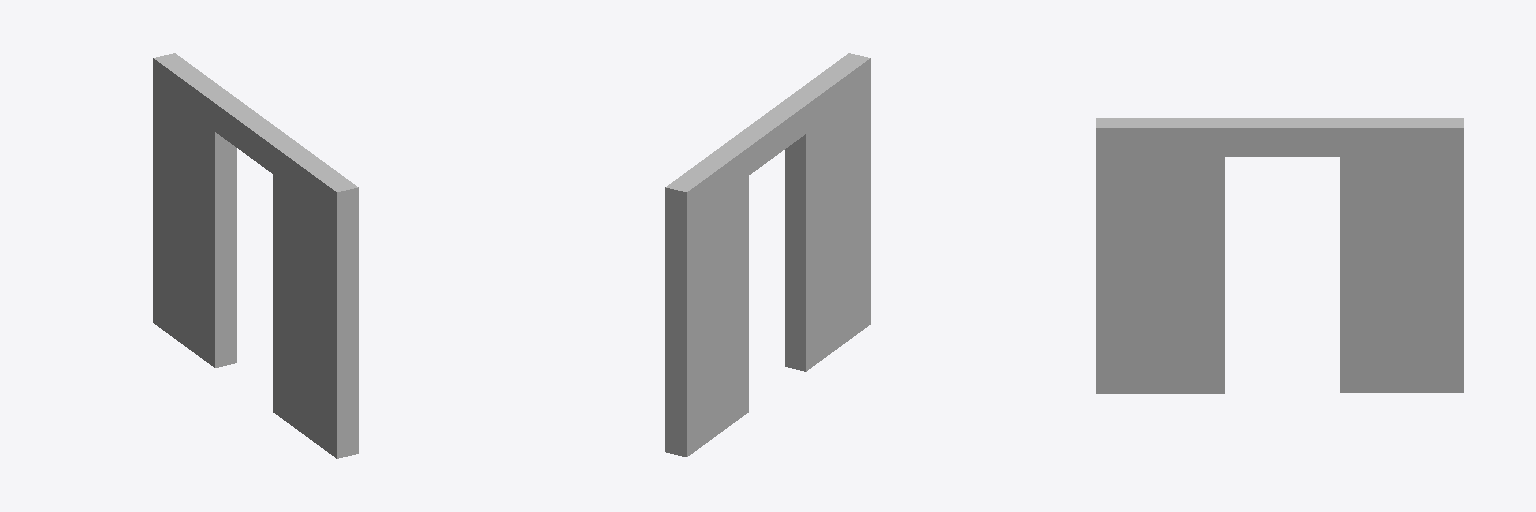
Rendered from Door.obj.
3 views of the same model, side by side, from view 1: azimuth 30°, elevation 25°; view 2: azimuth 150°, elevation 25°; view 3: azimuth 270°, elevation 25° (orthographic).
Visible parts, largest first — view 1: Cube_Cube.001; view 2: Cube_Cube.001; view 3: Cube_Cube.001.
Part boxes in pixels (bbox=[...]): Cube_Cube.001: bbox=[153, 53, 358, 458]; Cube_Cube.001: bbox=[665, 53, 870, 456]; Cube_Cube.001: bbox=[1096, 118, 1463, 393].
Size of the model in its own units: 0.1755 by 2.08 by 2.6.